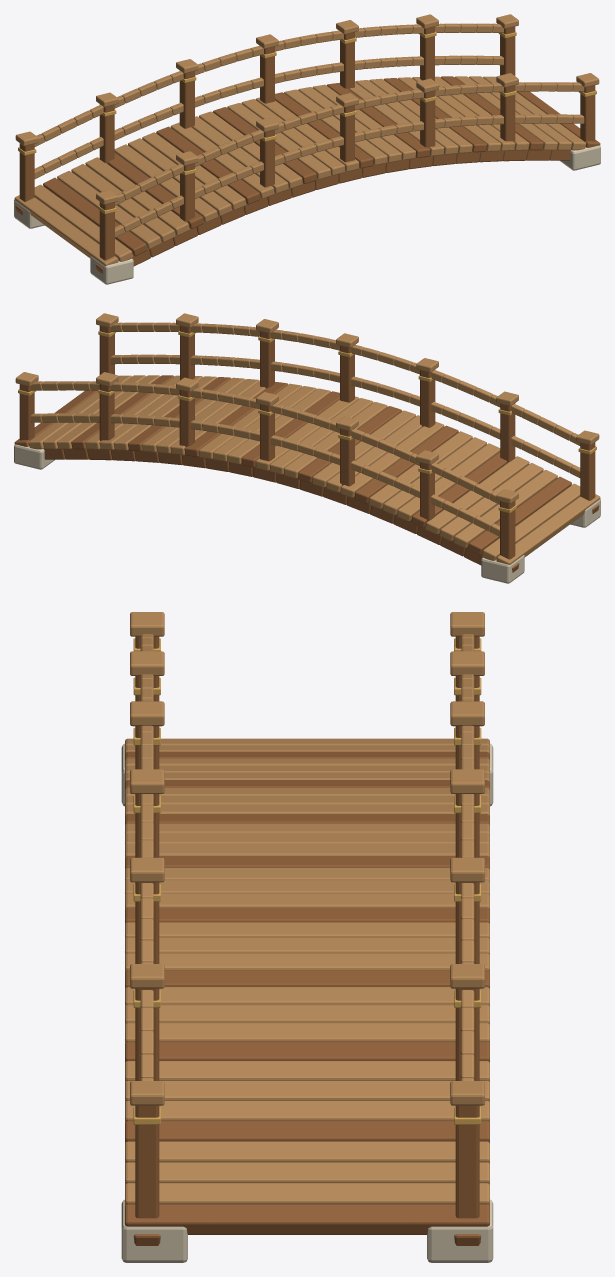
The model's file is bridge.fbx.
The picture shows the model from 3 angles, top to bottom: view 1: azimuth 30°, elevation 25°; view 2: azimuth 150°, elevation 25°; view 3: azimuth 270°, elevation 25°; orthographic projection. The views are drawn at different scales.
Parts seen in each view (by area): view 1: bridge • Timber • cut end.001, bridge • Timber • warm oak.001, bridge • Limestone • course 1.001, bridge • Brass • warm frames.001; view 2: bridge • Timber • cut end.001, bridge • Timber • warm oak.001, bridge • Limestone • course 1.001, bridge • Brass • warm frames.001; view 3: bridge • Timber • cut end.001, bridge • Timber • warm oak.001, bridge • Limestone • course 1.001, bridge • Brass • warm frames.001.
Boxes of the visible parts, x1,y1,x2,y2 form: bridge • Timber • cut end.001: (14,14,599,265); bridge • Timber • warm oak.001: (15,26,600,273); bridge • Limestone • course 1.001: (14,145,600,284); bridge • Brass • warm frames.001: (18,31,596,214); bridge • Timber • cut end.001: (15,313,600,564); bridge • Timber • warm oak.001: (14,325,599,572); bridge • Limestone • course 1.001: (14,444,600,583); bridge • Brass • warm frames.001: (18,330,596,513); bridge • Timber • cut end.001: (125,612,489,1205); bridge • Timber • warm oak.001: (125,636,489,1245); bridge • Limestone • course 1.001: (121,743,493,1262); bridge • Brass • warm frames.001: (133,638,481,1124).
Size of the model in its own units: 10.55 by 2.5 by 3.41.
